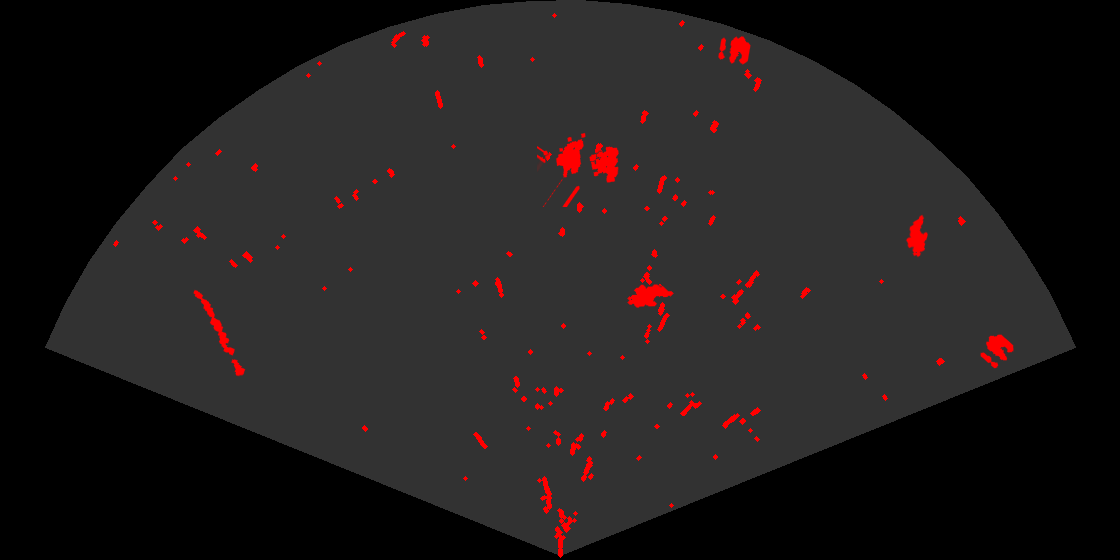AUV: (626, 283, 675, 309), (904, 213, 930, 259)
ball: (979, 333, 1015, 370), (717, 35, 752, 66)
cage: (537, 131, 620, 207)
chain: (192, 288, 247, 378)
